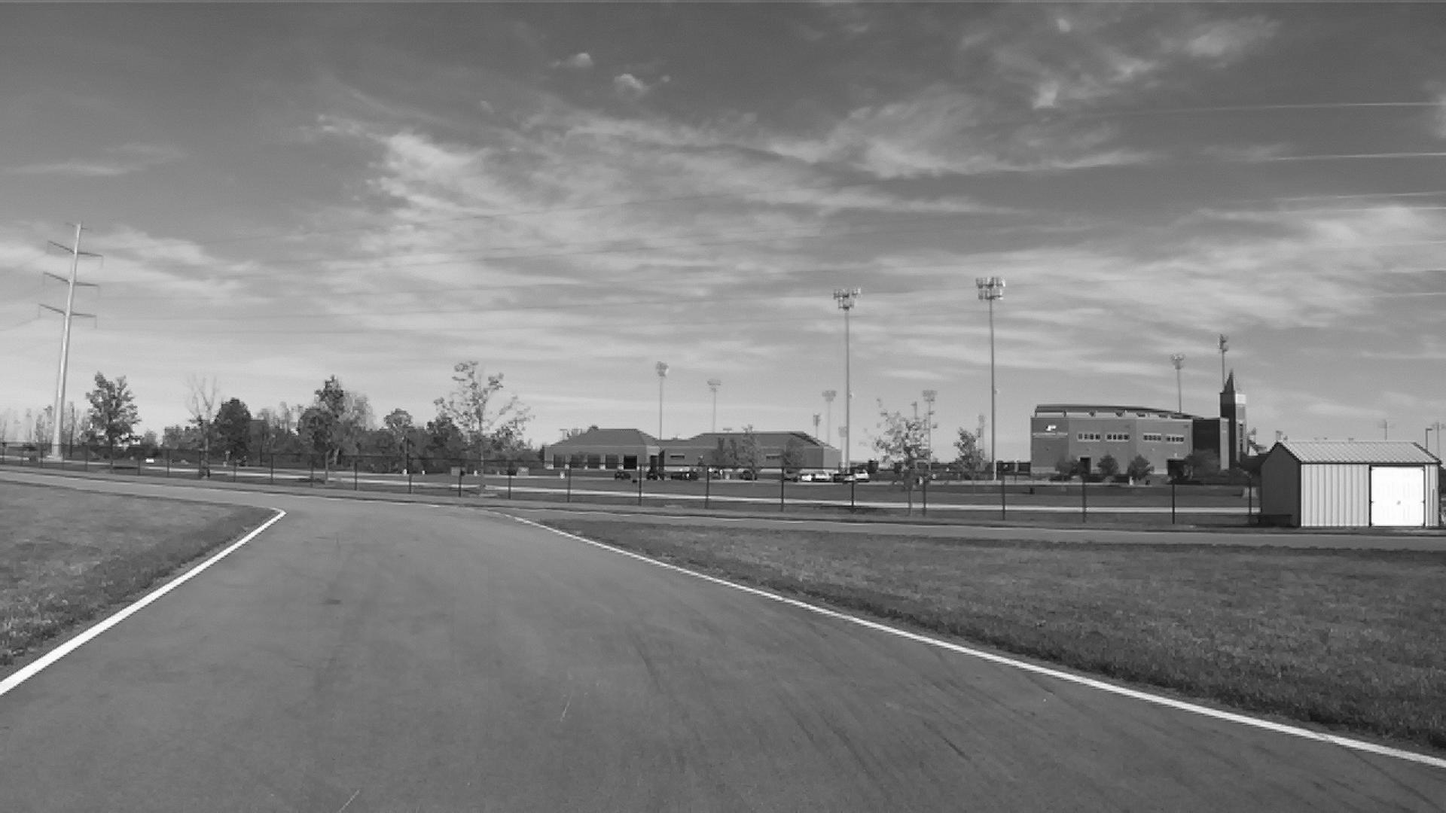white-line: (503, 515, 1445, 768), (0, 509, 286, 696)
